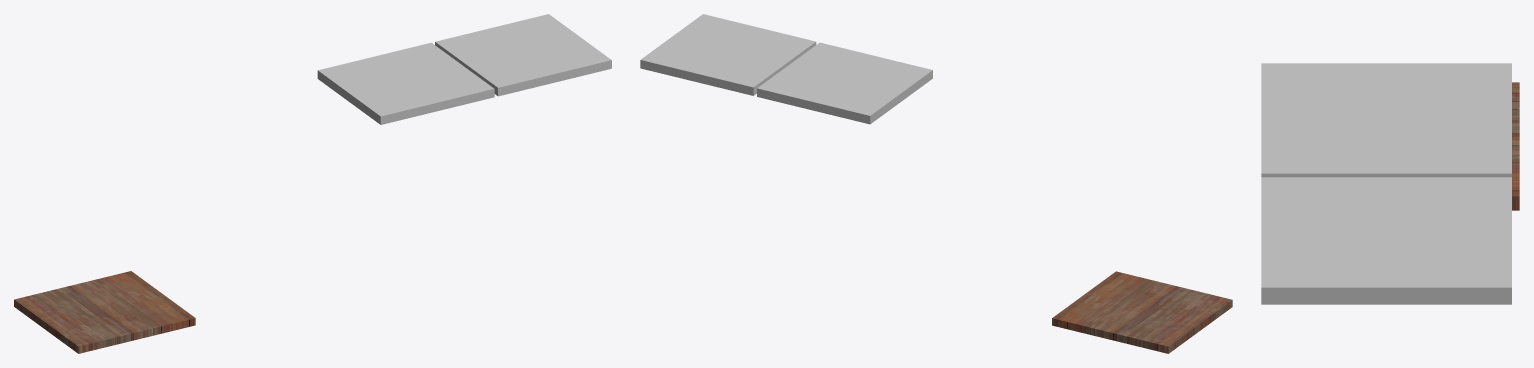
The model's file is Floor.fbx.
3 renders of one model, left to right at view 1: azimuth 30°, elevation 25°; view 2: azimuth 150°, elevation 25°; view 3: azimuth 270°, elevation 25°, orthographic. The views are drawn at different scales.
Visible parts, largest first — view 1: Floor0, Floor1, Floor; view 2: Floor0, Floor1, Floor; view 3: Floor, Floor1, Floor0.
Part boxes in pixels (x1,y1,x2,y2): Floor0: (14, 271, 195, 353); Floor1: (317, 42, 494, 124); Floor: (435, 14, 611, 96); Floor0: (1052, 271, 1232, 353); Floor1: (757, 42, 932, 124); Floor: (640, 14, 816, 95); Floor: (1261, 177, 1511, 304); Floor1: (1261, 63, 1511, 177); Floor0: (1512, 82, 1519, 210).
Size of the model in its own units: 1769 by 521 by 373.
